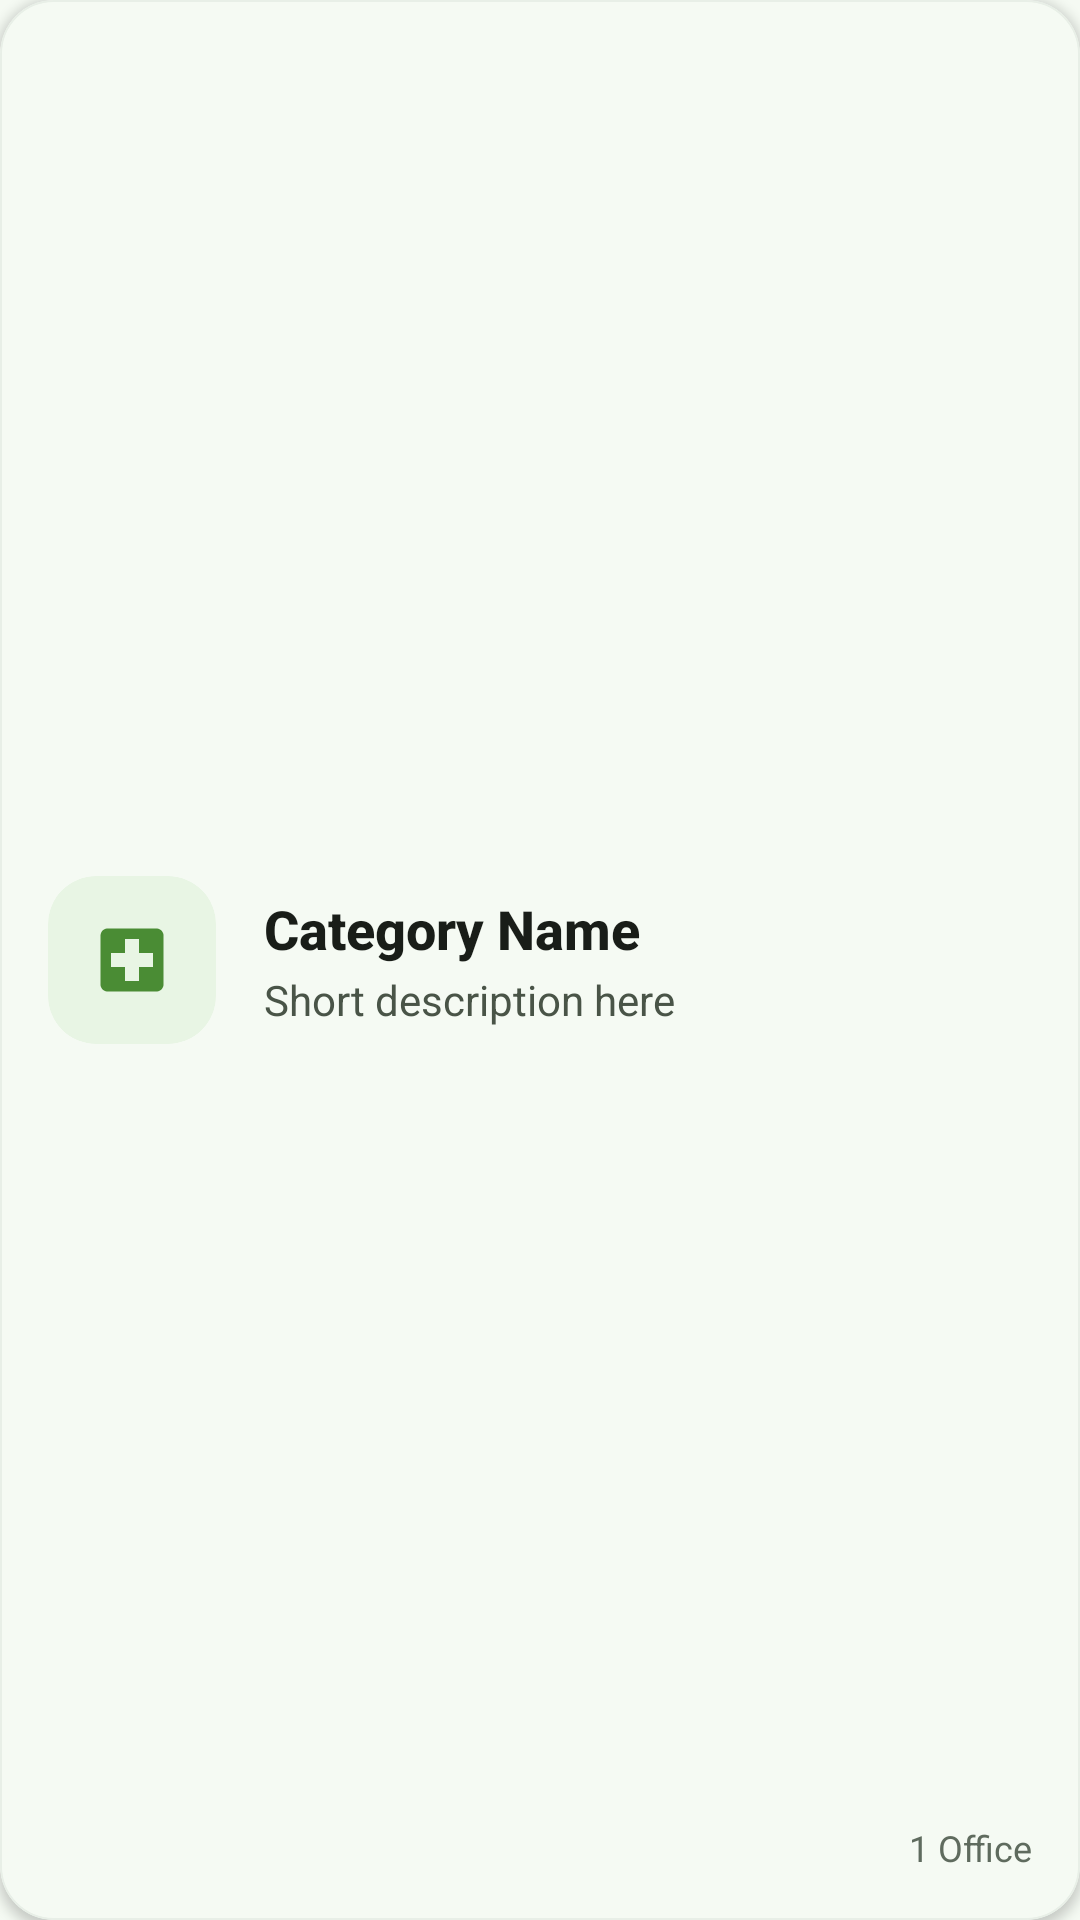

Screen size 1080px x 1920px. Icon name, then its box in pixels as Rect(x1, y1, x2, y2):
medical center: Rect(100, 928, 164, 992)
